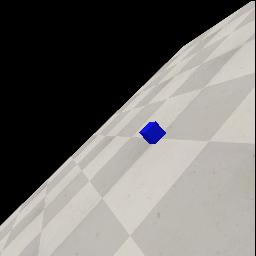box: (139, 121, 166, 144)
